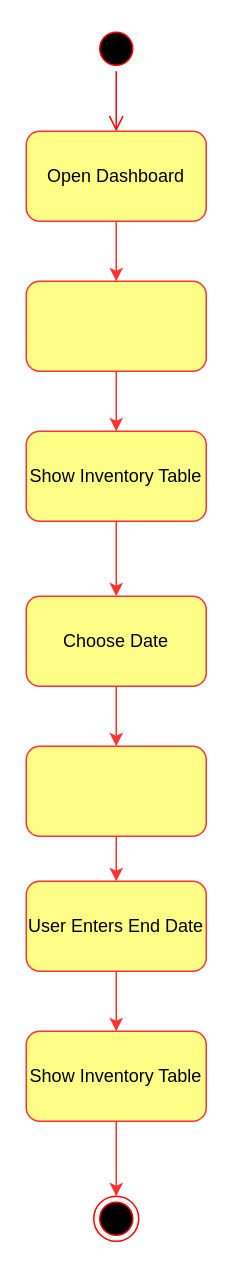
This 233x1268 diagram has some shape labels left out. The shapes that lost their labels are listed below. From the top down, each one's box as (x1, y1, x2, y2) in pixels, then its label:
(25, 280, 206, 371): Open Inventory
(25, 745, 206, 836): User Enters Start Date
